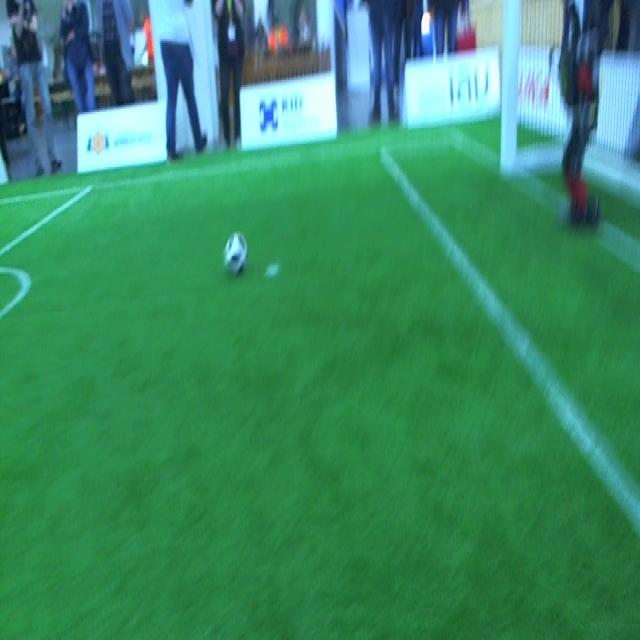ball: (226, 231, 252, 274)
goalpost: (500, 2, 521, 178)
